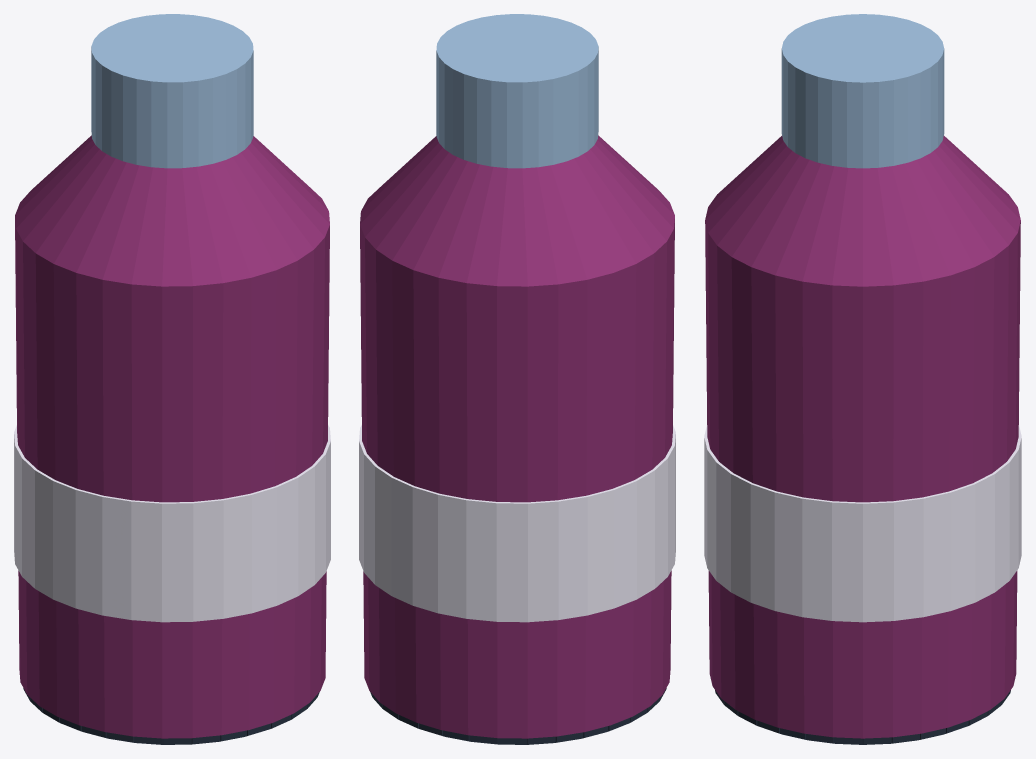
File: bottle.glb
The picture shows the model from 3 angles, left to right: view 1: azimuth 30°, elevation 25°; view 2: azimuth 150°, elevation 25°; view 3: azimuth 270°, elevation 25°; orthographic projection.
Visible parts, largest first — view 1: bottle body, grip band, shoulder, bottle cap; view 2: bottle body, grip band, shoulder, bottle cap; view 3: bottle body, grip band, shoulder, bottle cap.
Boxes of the visible parts, bbox=[...] form: bottle body: bbox=[15, 219, 329, 738]; grip band: bbox=[14, 425, 330, 622]; shoulder: bbox=[15, 135, 329, 286]; bottle cap: bbox=[91, 14, 253, 168]; bottle body: bbox=[360, 219, 674, 738]; grip band: bbox=[359, 425, 675, 622]; shoulder: bbox=[360, 135, 674, 286]; bottle cap: bbox=[436, 14, 598, 168]; bottle body: bbox=[705, 220, 1020, 738]; grip band: bbox=[704, 425, 1021, 622]; shoulder: bbox=[705, 136, 1020, 286]; bottle cap: bbox=[781, 14, 944, 168].
Size of the model in its own units: 0.704 by 1.55 by 0.704.
